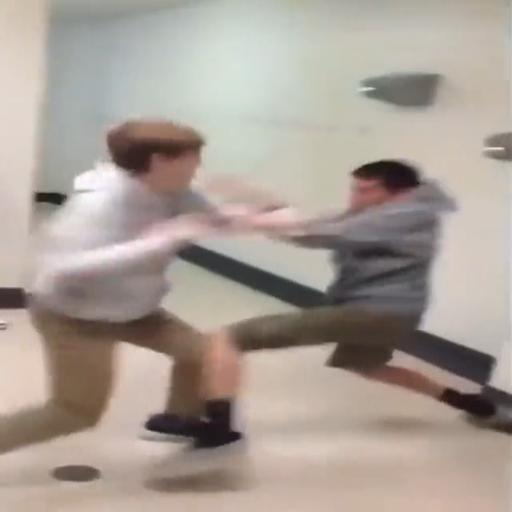violencia: (2, 107, 504, 463)
